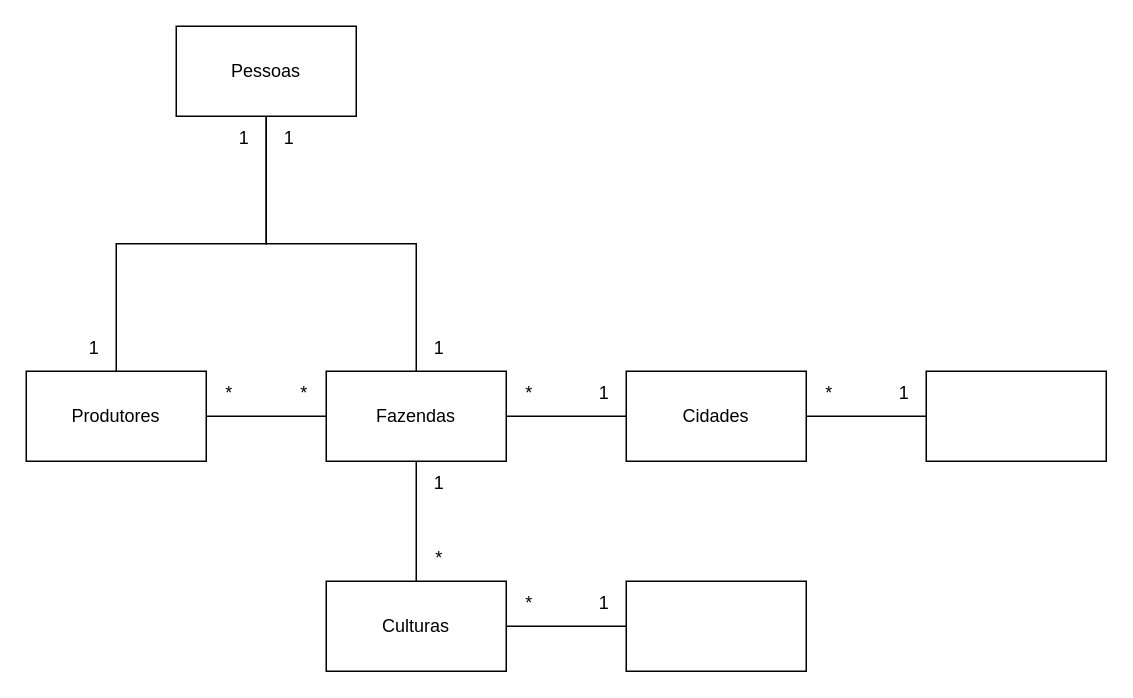
The diagram is 1133 pixels wide and 698 high, and some of its shapes have lost their labels. The centre of each missing label's shape, as x and y in pixels:
Estados: (x=1015, y=415)
TiposCultura: (x=715, y=625)
